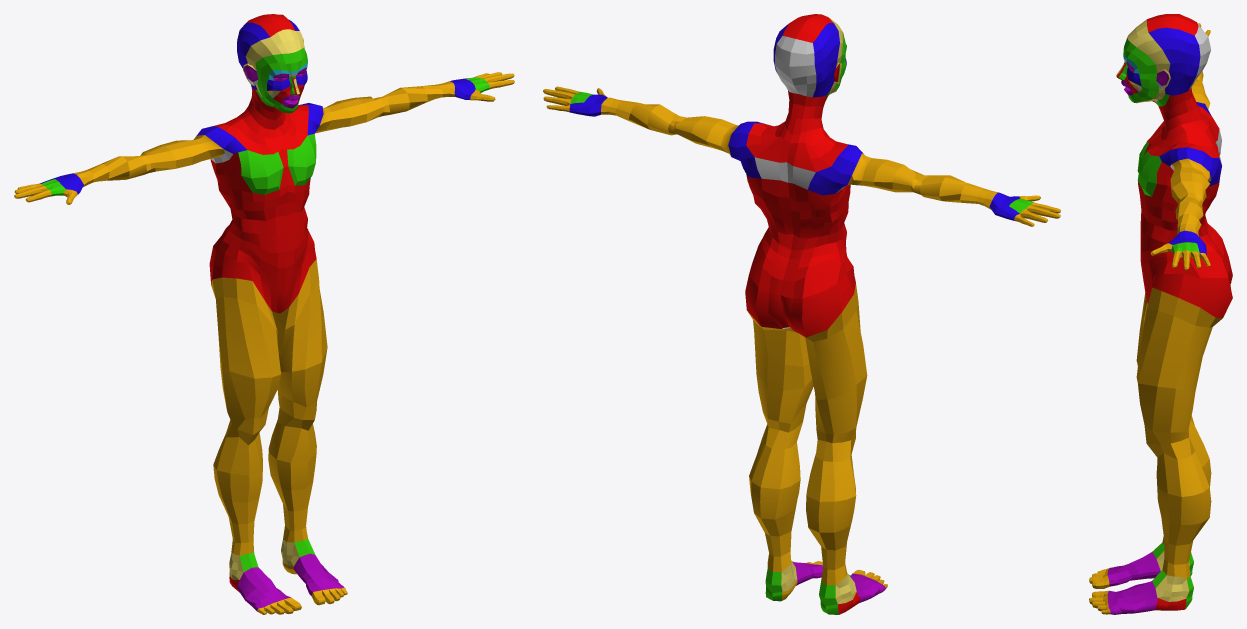
File: GenericMesh.fbx
The picture shows the model from 3 angles, left to right: view 1: azimuth 30°, elevation 25°; view 2: azimuth 150°, elevation 25°; view 3: azimuth 270°, elevation 25°; orthographic projection. The views are drawn at different scales.
Visible parts, largest first — view 1: polySurface7; view 2: polySurface7; view 3: polySurface7.
Part boxes in pixels (x1=…): polySurface7: x1=14, y1=14, x2=514, y2=614; polySurface7: x1=543, y1=14, x2=1060, y2=614; polySurface7: x1=1089, y1=14, x2=1232, y2=614.
Bounding box in the file's own units: 33.84 × 36.52 × 8.24.
